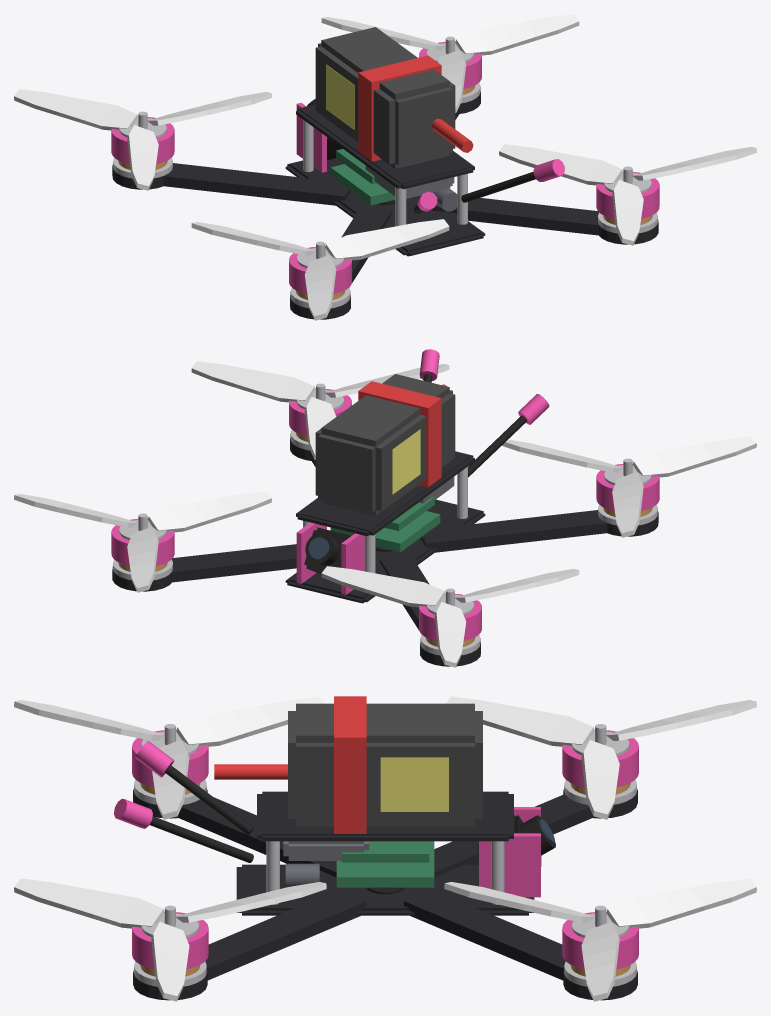
Rendered from freestyle5lite.glb.
3 views of the same model, one above another, from view 1: azimuth 30°, elevation 25°; view 2: azimuth 150°, elevation 25°; view 3: azimuth 270°, elevation 25° (orthographic). The views are drawn at different scales.
Parts seen in each view (by area): view 1: body, prop_FL, prop_RL, prop_RR, prop_FR, cam_mount; view 2: body, prop_FL, prop_FR, prop_RL, prop_RR, cam_mount, fpv_cam; view 3: body, prop_FR, prop_RR, prop_FL, prop_RL, cam_mount, fpv_cam.
Boxes of the visible parts, box(x1,y1,x2,y2) form: body: box(111, 27, 659, 319); prop_FL: box(14, 89, 395, 204); prop_RL: box(191, 219, 449, 320); prop_RR: box(499, 144, 756, 245); prop_FR: box(321, 14, 579, 112); cam_mount: box(296, 102, 326, 172); body: box(111, 349, 659, 666); prop_FL: box(321, 546, 579, 667); prop_FR: box(14, 491, 271, 592); prop_RL: box(502, 436, 756, 537); prop_RR: box(191, 361, 449, 459); cam_mount: box(296, 522, 364, 594); fpv_cam: box(304, 527, 350, 574); body: box(114, 696, 638, 1000); prop_FR: box(444, 878, 756, 1001); prop_RR: box(14, 878, 326, 1001); prop_FL: box(367, 696, 756, 894); prop_RL: box(14, 696, 324, 819); cam_mount: box(479, 807, 540, 897); fpv_cam: box(478, 815, 555, 866).
Size of the model in its own units: 0.2574 by 0.0756 by 0.2728.
